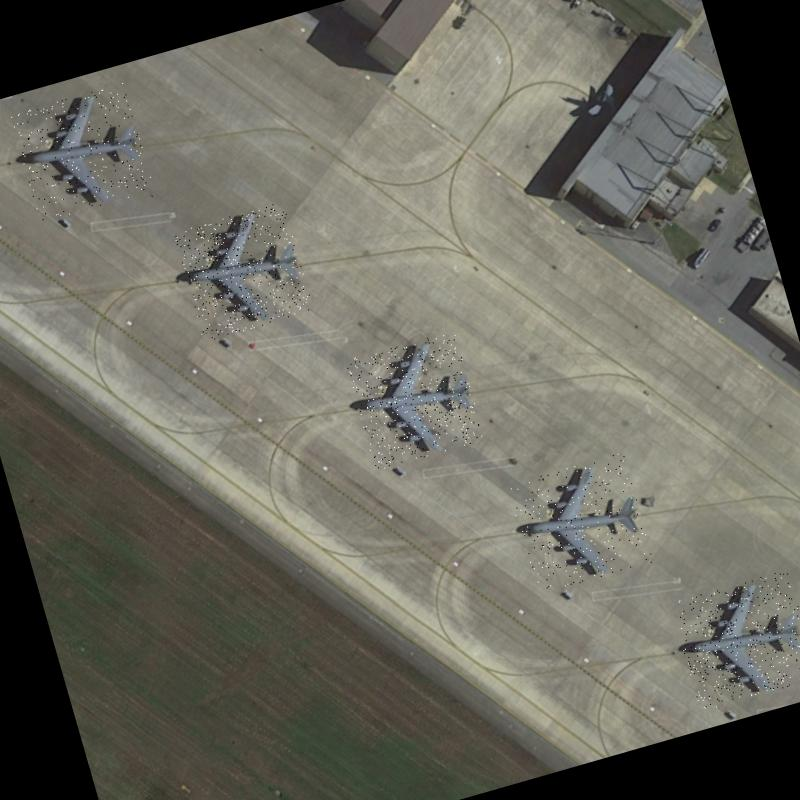A14: (506, 452, 654, 594), (9, 82, 154, 222), (172, 201, 314, 342), (344, 328, 485, 470), (669, 568, 800, 711)
